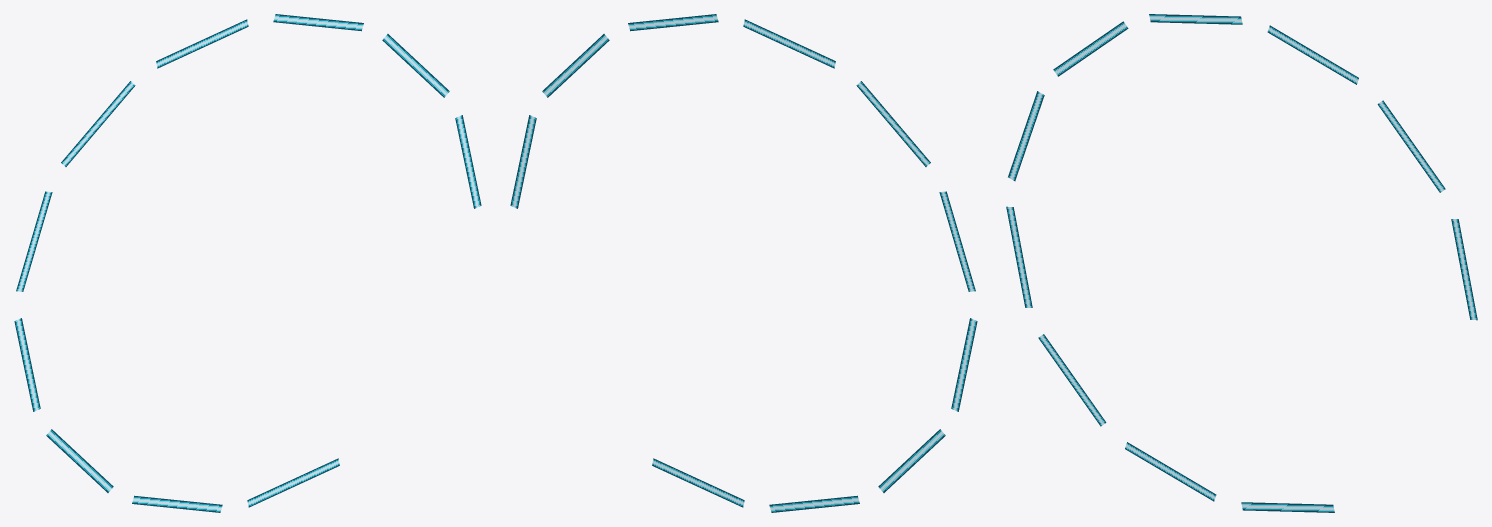
File: cysky.halocard.glb
The picture shows the model from 3 angles, left to right: view 1: azimuth 30°, elevation 25°; view 2: azimuth 150°, elevation 25°; view 3: azimuth 330°, elevation 25°; orthographic projection.
Parts seen in each view (by area): view 1: kit_card_projection; view 2: kit_card_projection; view 3: kit_card_projection.
Boxes of the visible parts, <box> form: kit_card_projection: <box>14,14,481,512</box>; kit_card_projection: <box>510,14,977,512</box>; kit_card_projection: <box>1006,14,1477,512</box>.
Size of the model in its own units: 6.1 by 6.1 by 0.
Materials: 1 (1 with a texture image).
